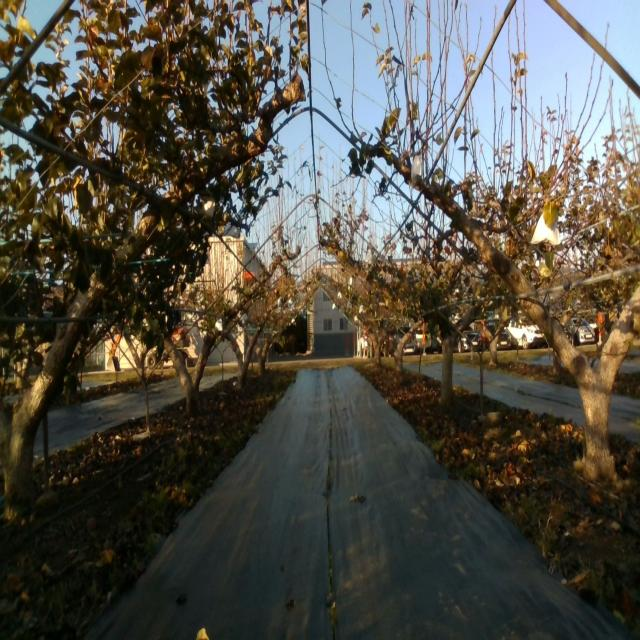pearbags: (530, 213, 559, 247), (198, 192, 216, 218), (411, 154, 423, 190)
